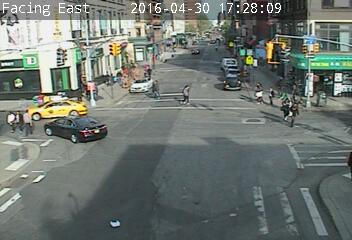neg: (309, 108, 329, 134), (91, 171, 108, 193), (152, 160, 168, 181), (150, 103, 165, 123), (195, 117, 210, 136), (145, 36, 159, 56), (214, 76, 228, 95), (59, 193, 72, 211), (116, 75, 129, 92), (82, 78, 94, 94), (55, 90, 67, 106), (299, 46, 311, 62), (62, 122, 74, 137), (211, 17, 222, 31), (268, 44, 278, 56), (184, 49, 193, 61)
pos: (16, 107, 36, 134), (177, 82, 194, 105), (286, 102, 303, 124), (3, 108, 20, 130), (287, 80, 303, 102), (10, 107, 26, 129), (279, 98, 295, 119), (265, 85, 280, 105), (148, 79, 163, 98), (277, 85, 291, 104), (253, 81, 267, 100), (144, 66, 154, 79)
